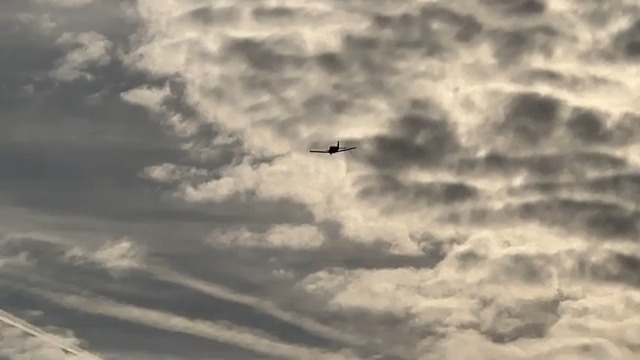not_drone: (305, 139, 356, 157)
